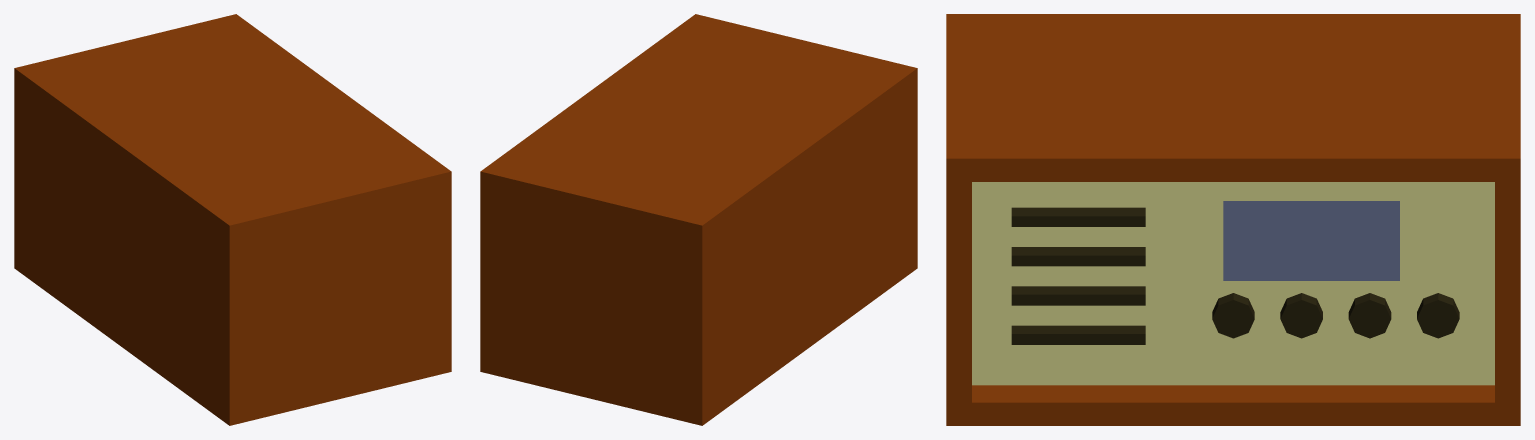
Rendered from Radio.fbx.
3 views of the same model, side by side, from view 1: azimuth 30°, elevation 25°; view 2: azimuth 150°, elevation 25°; view 3: azimuth 270°, elevation 25° (orthographic). The views are drawn at different scales.
Parts seen in each view (by area): view 1: Cube; view 2: Cube; view 3: Cube, Plane, Cube.001, Cylinder.
Boxes of the visible parts, left/top/right/bottom form: Cube: left=14, top=14, right=451, bottom=425; Cube: left=480, top=14, right=917, bottom=425; Cube: left=946, top=14, right=1520, bottom=425; Plane: left=1223, top=201, right=1399, bottom=280; Cube.001: left=1011, top=207, right=1145, bottom=344; Cylinder: left=1212, top=293, right=1459, bottom=338.
Bounding box in the file's own units: 64.92 × 56.01 × 109.
